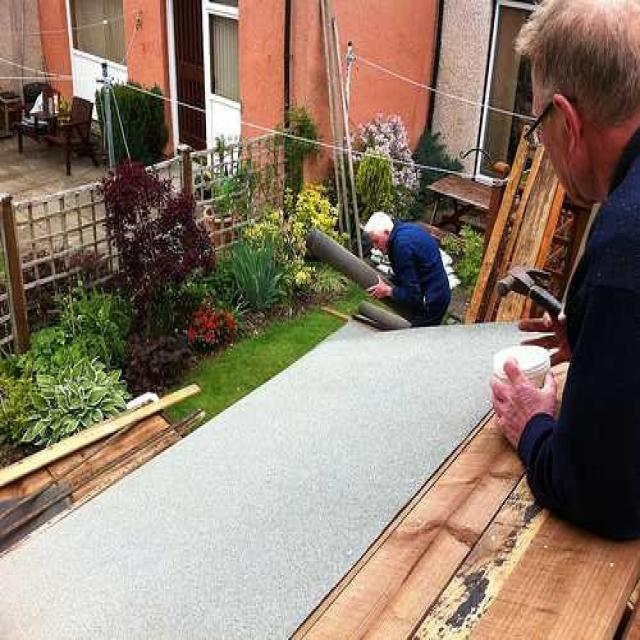hammer: (496, 265, 572, 333)
